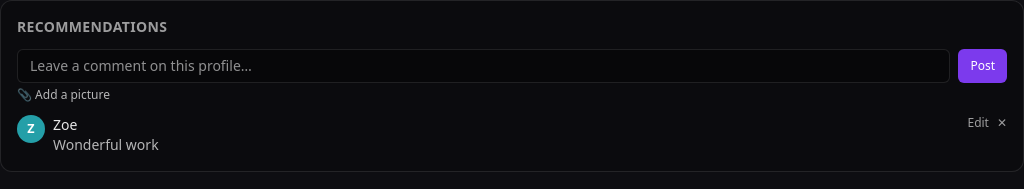
Test: ProfileComments (testimonials) › lets a comment's author delete it
Click the button "✕": (1002, 123) [997, 115, 1007, 131]
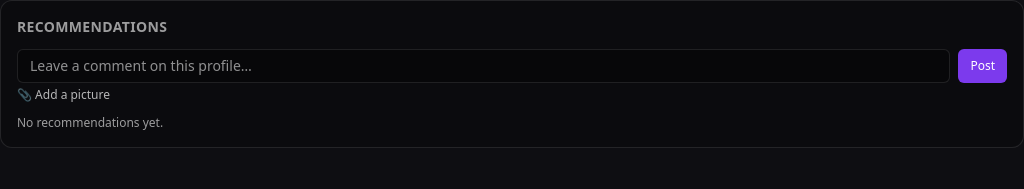
Expected: the text "Wonderful work" is gone
